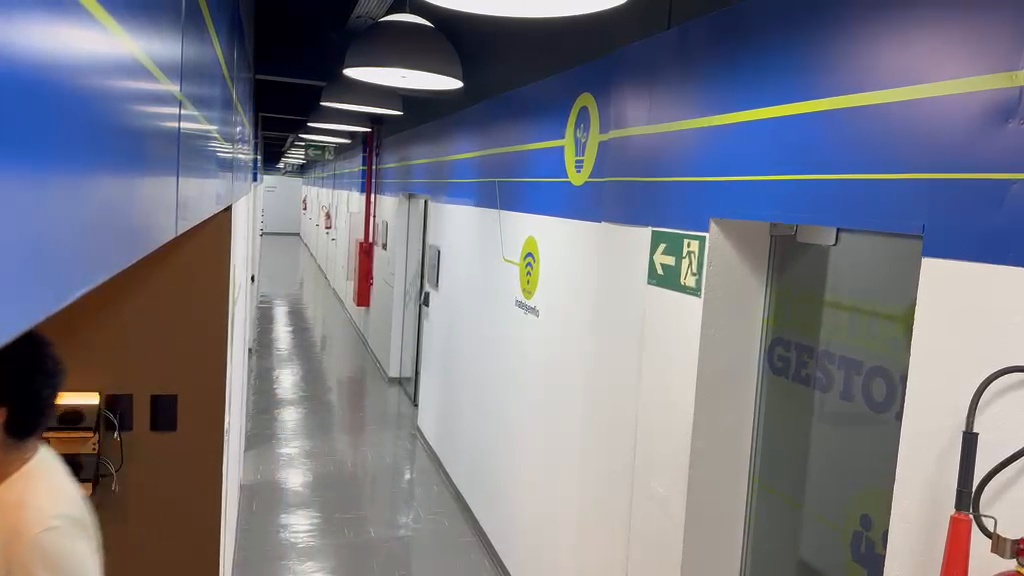person: (0, 328, 106, 571)
